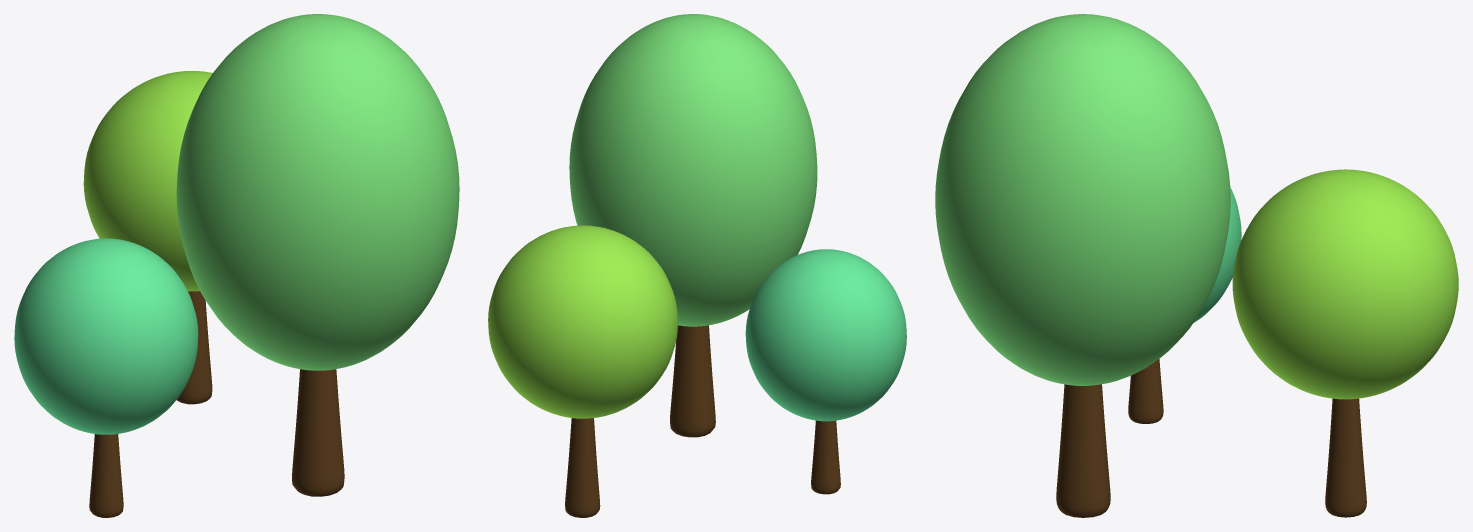
File: treeLP1.glb
3 views of the same model, side by side, from view 1: azimuth 30°, elevation 25°; view 2: azimuth 150°, elevation 25°; view 3: azimuth 270°, elevation 25° (orthographic). The views are drawn at different scales.
Visible parts, largest first — view 1: Sphere, Sphere.002, Sphere.001, Cube, Cube.002, Cube.001; view 2: Sphere, Sphere.001, Sphere.002, Cube, Cube.001, Cube.002; view 3: Sphere, Sphere.001, Cube, Cube.001, Cube.002, Sphere.002.
Part boxes in pixels (x1,y1,x2,y2): Sphere: [176, 14, 459, 370]; Sphere.002: [14, 238, 198, 434]; Sphere.001: [83, 71, 212, 291]; Cube: [292, 369, 344, 496]; Cube.002: [89, 434, 123, 517]; Cube.001: [177, 291, 212, 404]; Sphere: [569, 14, 817, 326]; Sphere.001: [488, 225, 677, 418]; Sphere.002: [745, 249, 906, 421]; Cube: [670, 325, 715, 437]; Cube.001: [565, 418, 600, 517]; Cube.002: [811, 420, 840, 494]; Sphere: [935, 14, 1230, 385]; Sphere.001: [1232, 169, 1458, 399]; Cube: [1056, 384, 1110, 517]; Cube.001: [1325, 398, 1366, 517]; Cube.002: [1128, 359, 1163, 423]; Sphere.002: [1193, 187, 1241, 322].
Size of the model in its own units: 9.47 by 11.01 by 10.72.
